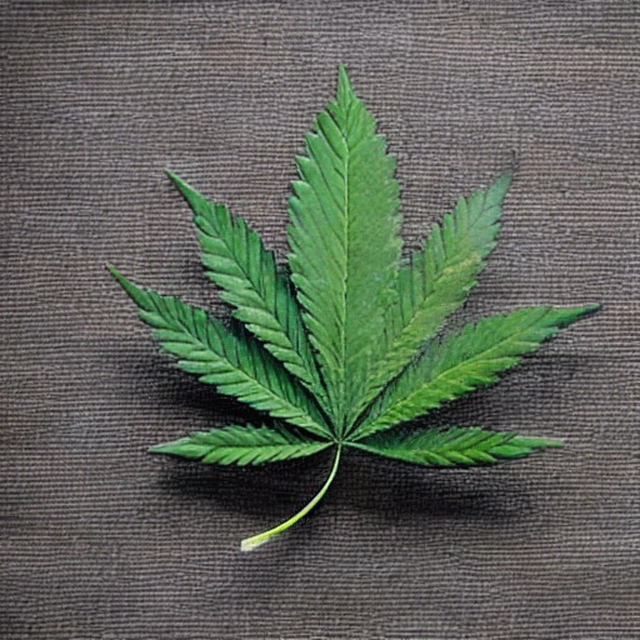Marijuana Leaf: (104, 61, 602, 552)
